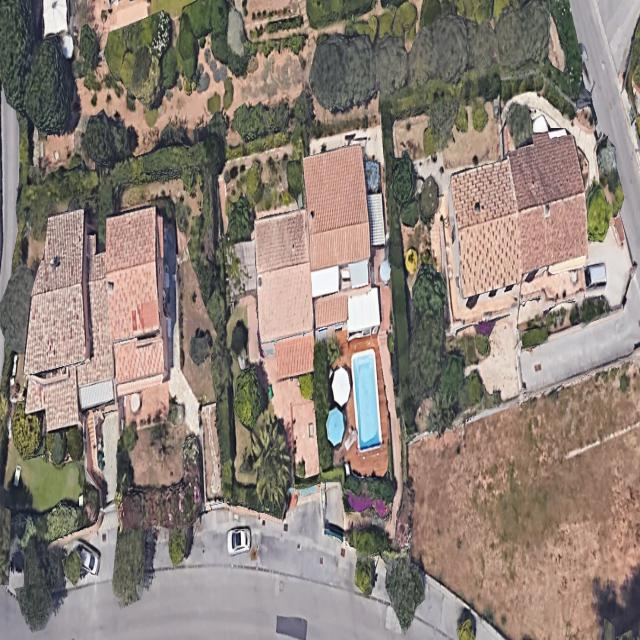maison: (17, 209, 171, 425), (239, 146, 382, 378), (435, 127, 597, 301)
